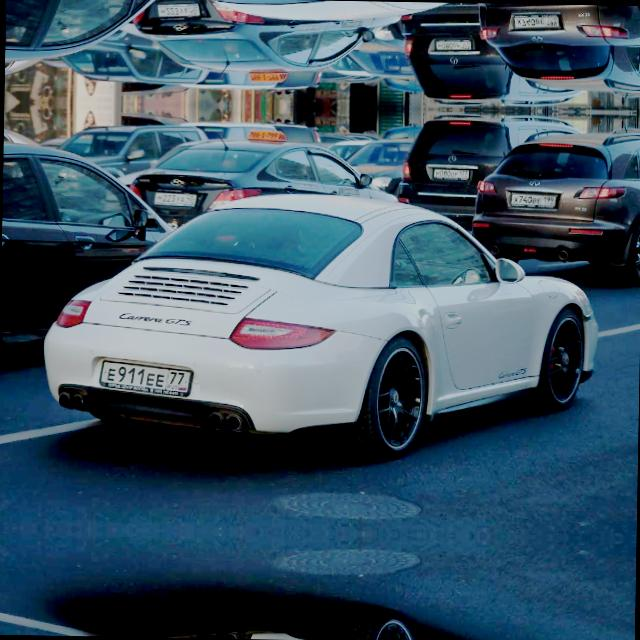citizen: (94, 354, 198, 404)
